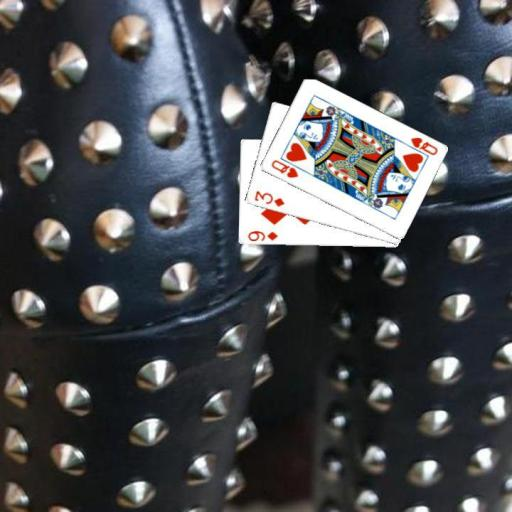3D: (251, 187, 286, 208)
9D: (245, 229, 279, 243)
QH: (400, 135, 439, 160), (268, 157, 300, 180)
